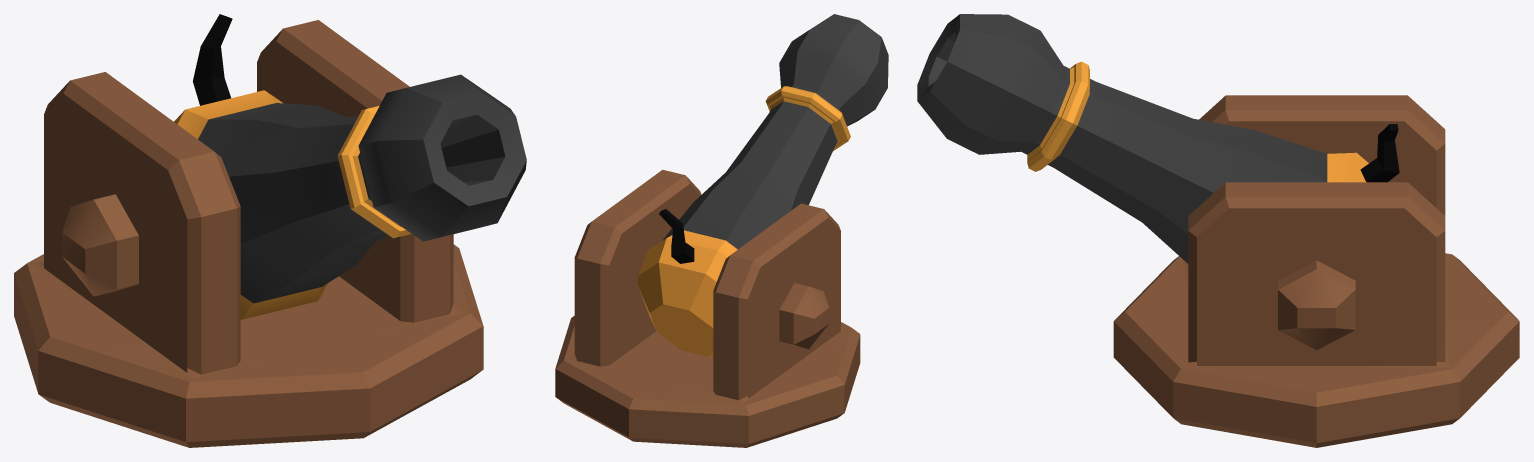
Rendered from Cannon.obj.
3 views of the same model, side by side, from view 1: azimuth 30°, elevation 25°; view 2: azimuth 150°, elevation 25°; view 3: azimuth 270°, elevation 25° (orthographic). The views are drawn at different scales.
Parts seen in each view (by area): view 1: Circle.003, Circle.002; view 2: Circle.003, Circle.002; view 3: Circle.003, Circle.002.
Boxes of the visible parts, <box> form: Circle.003: <box>14,20,483,447</box>; Circle.002: <box>174,14,526,319</box>; Circle.003: <box>555,169,860,447</box>; Circle.002: <box>637,14,888,356</box>; Circle.003: <box>1113,95,1519,447</box>; Circle.002: <box>917,14,1399,263</box>.
Bounding box in the file's own units: 2.33 × 2.18 × 3.45.
